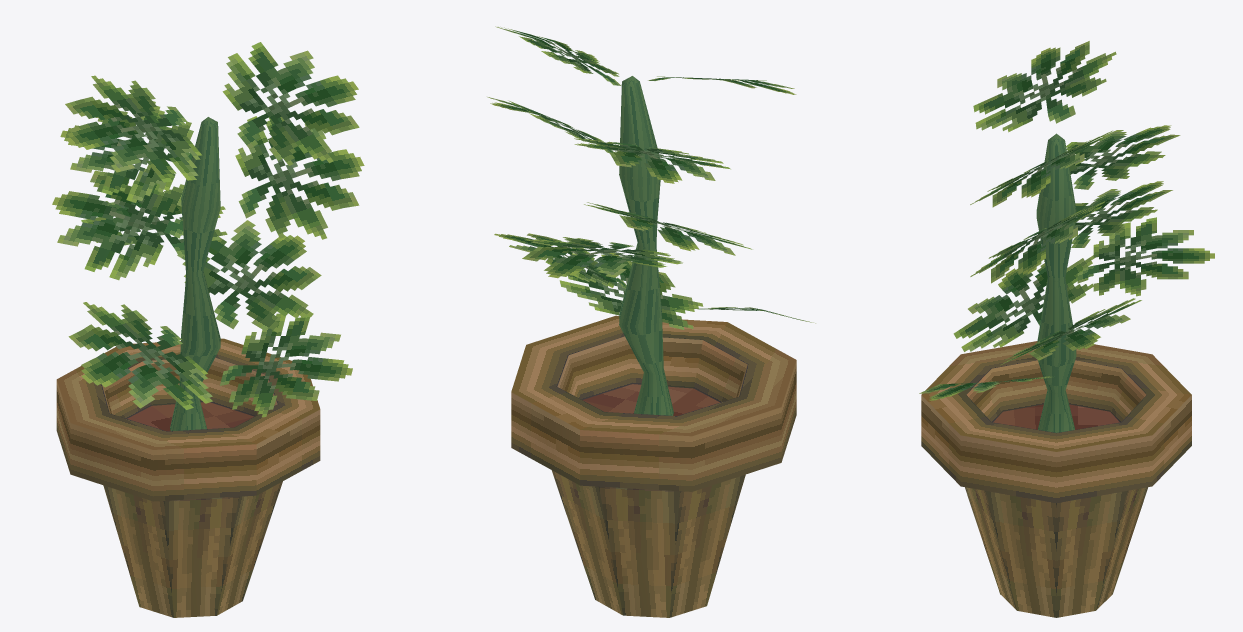
Rendered from o_kusa3.glb.
3 views of the same model, side by side, from view 1: azimuth 30°, elevation 25°; view 2: azimuth 150°, elevation 25°; view 3: azimuth 270°, elevation 25° (orthographic). The views are drawn at different scales.
Parts seen in each view (by area): view 1: o_kusa3; view 2: o_kusa3; view 3: o_kusa3.
Boxes of the visible parts, x1,y1,x2,y2 form: o_kusa3: [52, 42, 364, 617]; o_kusa3: [487, 26, 815, 617]; o_kusa3: [919, 41, 1214, 617].
Bounding box in the file's own units: 136 × 202 × 127.
Materials: 4 (4 with a texture image).
